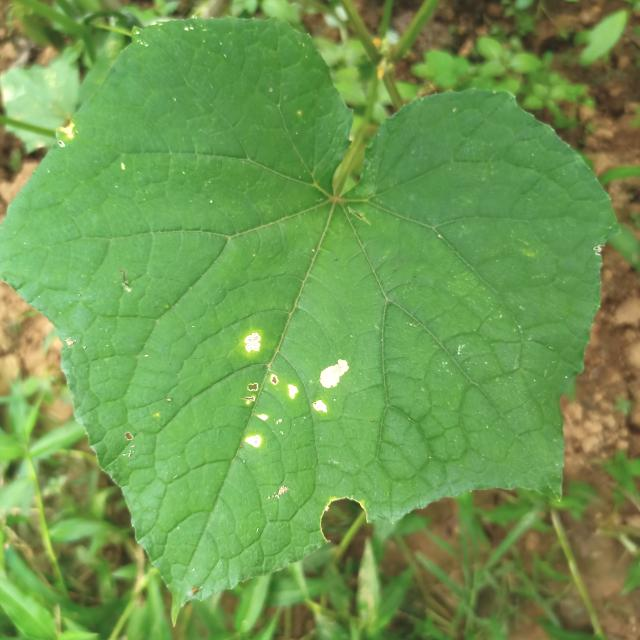disease_cucumber: (238, 329, 349, 451)
